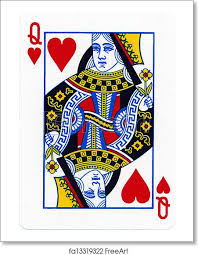queen of hearts: (21, 17, 181, 229)
